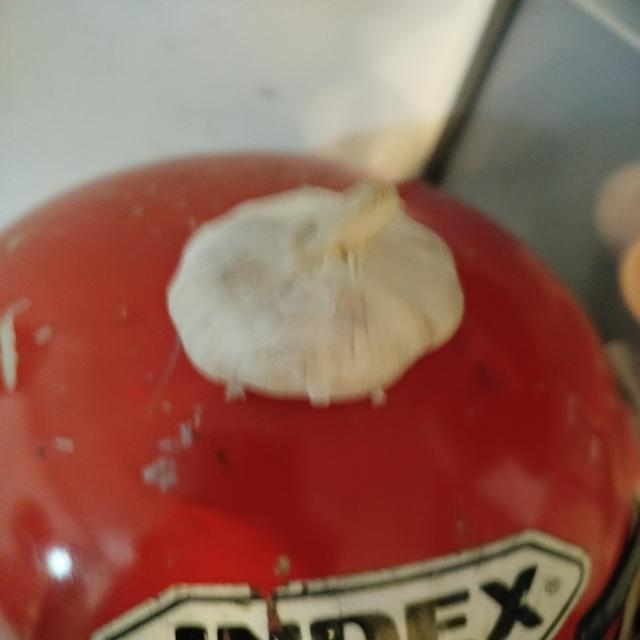garlic: (165, 179, 466, 408)
